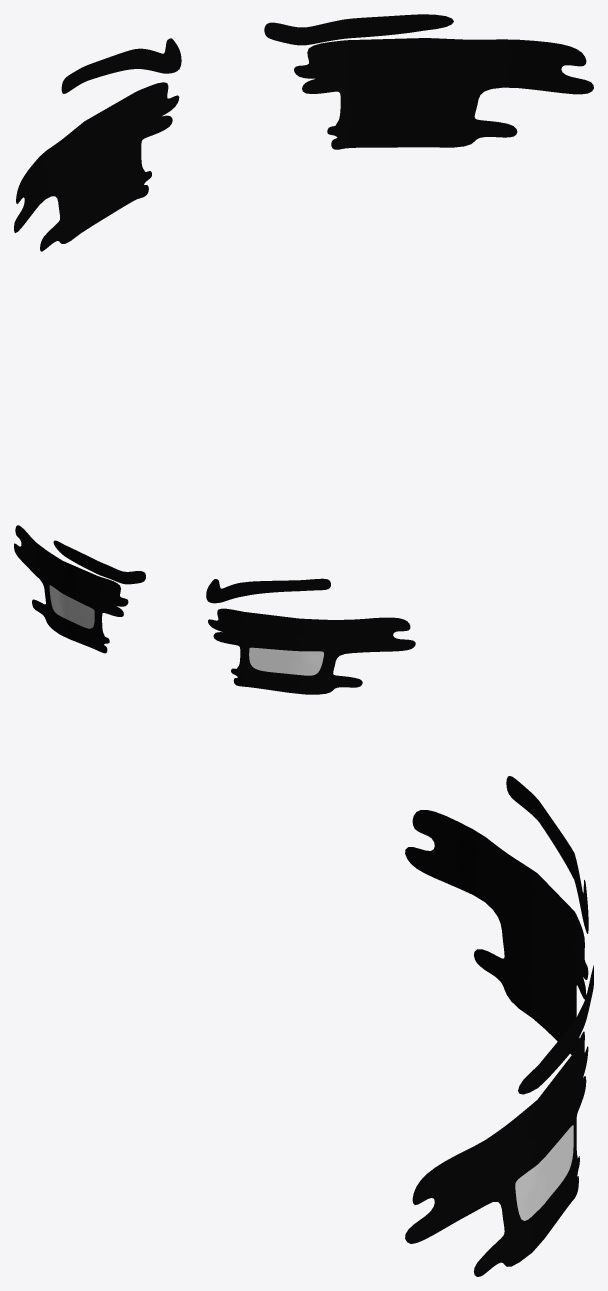
Rendered from 23-Confused-Tired-Face-eyes.glb.
3 renders of one model, top to bottom at view 1: azimuth 30°, elevation 25°; view 2: azimuth 150°, elevation 25°; view 3: azimuth 270°, elevation 25°, orthographic. The views are drawn at different scales.
Visible parts, largest first — view 1: 23-Confused-Tired-Face-eyes; view 2: 23-Confused-Tired-Face-eyes; view 3: 23-Confused-Tired-Face-eyes.
Boxes of the visible parts, bbox=[...] form: 23-Confused-Tired-Face-eyes: bbox=[14, 14, 593, 251]; 23-Confused-Tired-Face-eyes: bbox=[14, 525, 415, 694]; 23-Confused-Tired-Face-eyes: bbox=[405, 776, 593, 1276].
Size of the model in its own units: 1.03 by 0.334 by 0.5487.
Materials: 7 (7 with a texture image).
